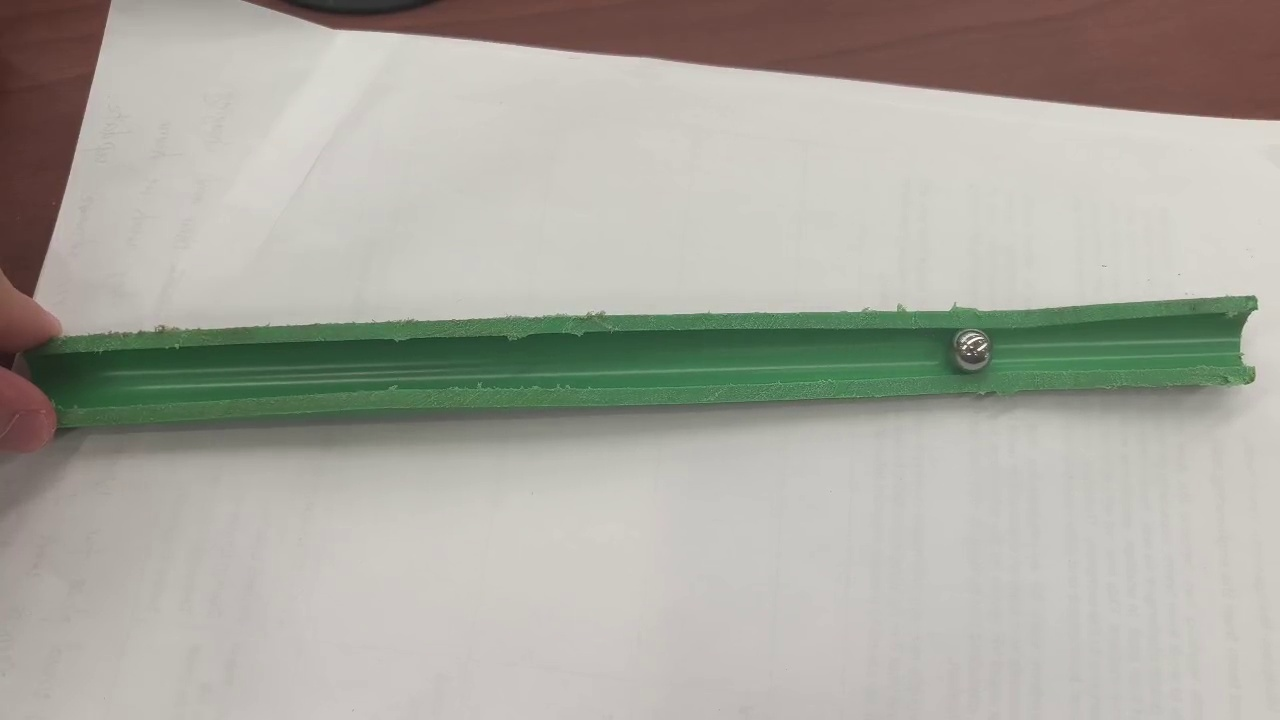ball: (954, 331, 990, 370)
